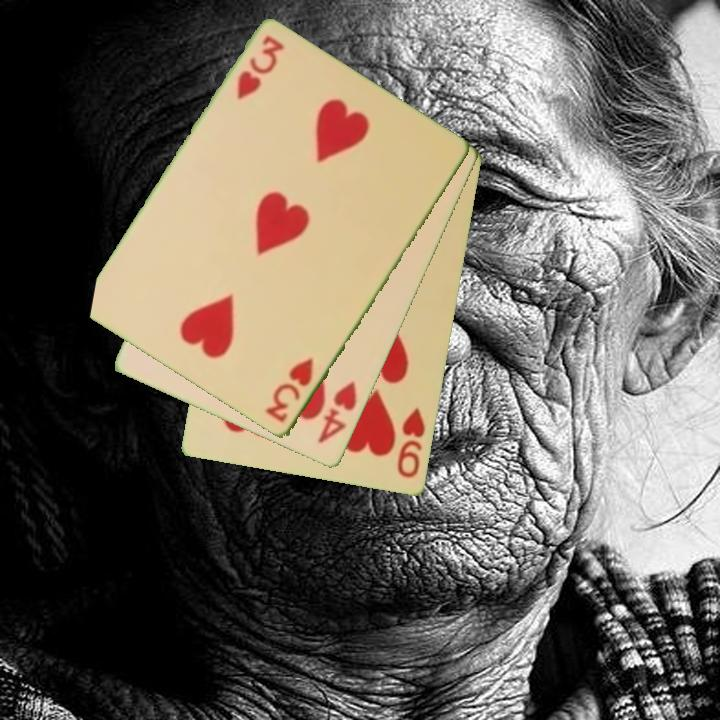3h: (262, 354, 317, 426), (233, 32, 287, 104)
4h: (314, 377, 360, 447)
9h: (394, 404, 429, 481)
